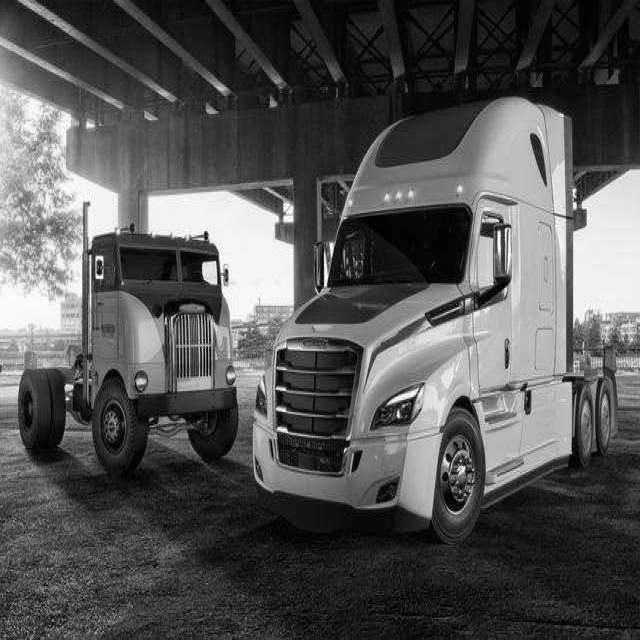Truck: (253, 98, 618, 542), (19, 208, 238, 474)
